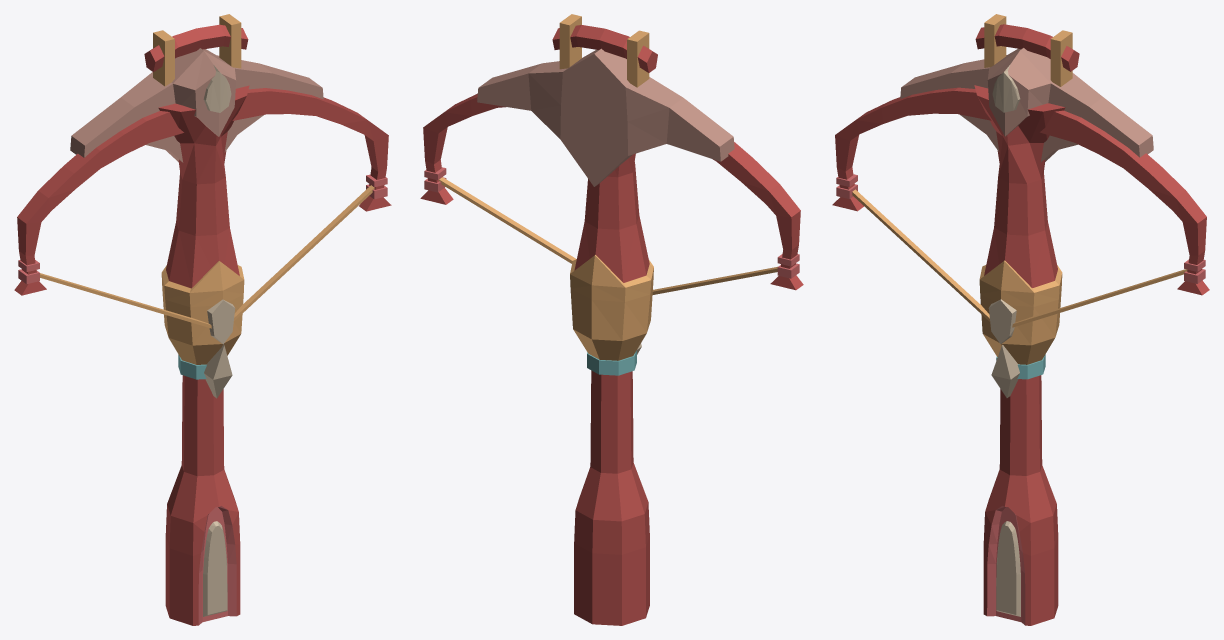
File: _crossbow_4.glb
3 views of the same model, side by side, from view 1: azimuth 30°, elevation 25°; view 2: azimuth 150°, elevation 25°; view 3: azimuth 330°, elevation 25° (orthographic).
Parts seen in each view (by area): view 1: crossbow_4; view 2: crossbow_4; view 3: crossbow_4.
Part boxes in pixels (x1,y1,x2,y2): crossbow_4: (14,14,391,625); crossbow_4: (420,14,803,625); crossbow_4: (832,14,1209,625).
Size of the model in its own units: 19548 by 29155 by 3694.
Materials: 1 (1 with a texture image).
